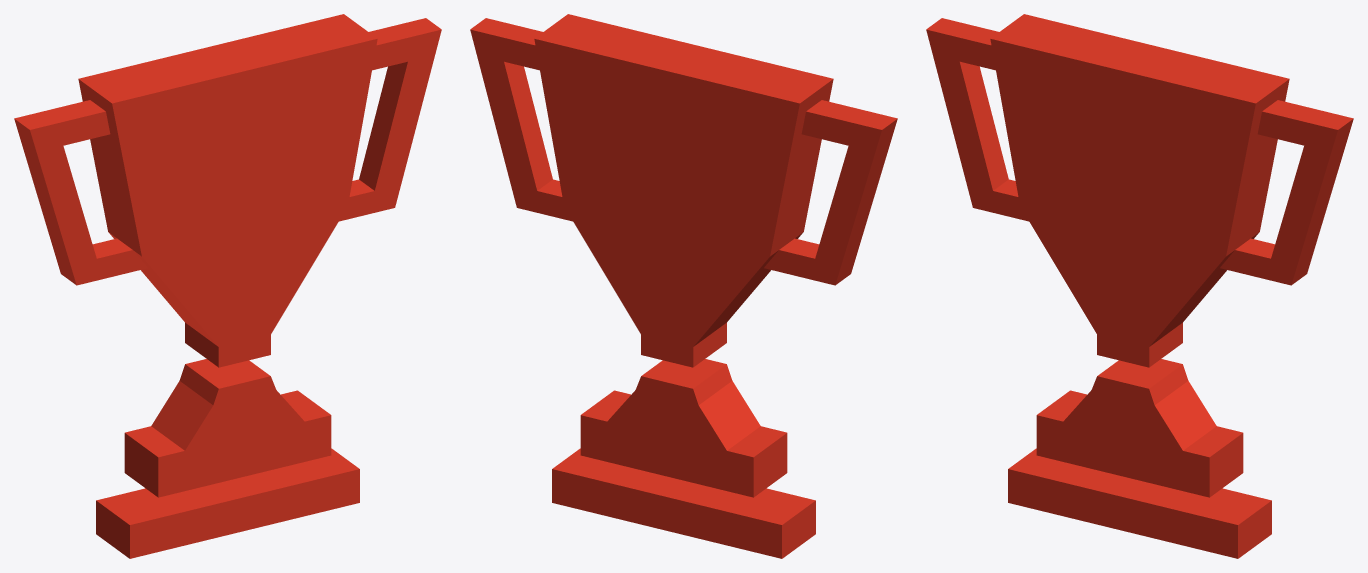
The model's file is Icon_ChampionCup_02.fbx.
3 views of the same model, side by side, from view 1: azimuth 30°, elevation 25°; view 2: azimuth 150°, elevation 25°; view 3: azimuth 330°, elevation 25° (orthographic).
Parts seen in each view (by area): view 1: Icon_ChampionCup_02; view 2: Icon_ChampionCup_02; view 3: Icon_ChampionCup_02.
Part boxes in pixels (box(x1,y1,x2,y2)): Icon_ChampionCup_02: box(14, 14, 441, 558); Icon_ChampionCup_02: box(470, 14, 897, 558); Icon_ChampionCup_02: box(926, 14, 1353, 558).
Size of the model in its own units: 70.75 by 75.46 by 10.05.
